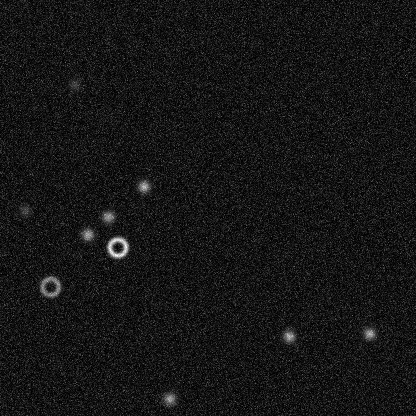Ring: (38, 274, 62, 298), (105, 235, 129, 259)
Spot: (66, 76, 82, 92), (161, 390, 177, 406), (100, 208, 116, 224), (135, 178, 151, 194), (361, 325, 377, 341), (17, 202, 33, 218), (280, 328, 296, 344), (79, 226, 95, 242)
